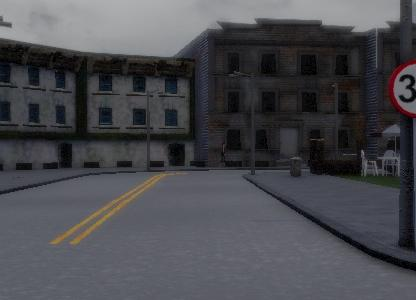Speed_30: (389, 63, 416, 125)
